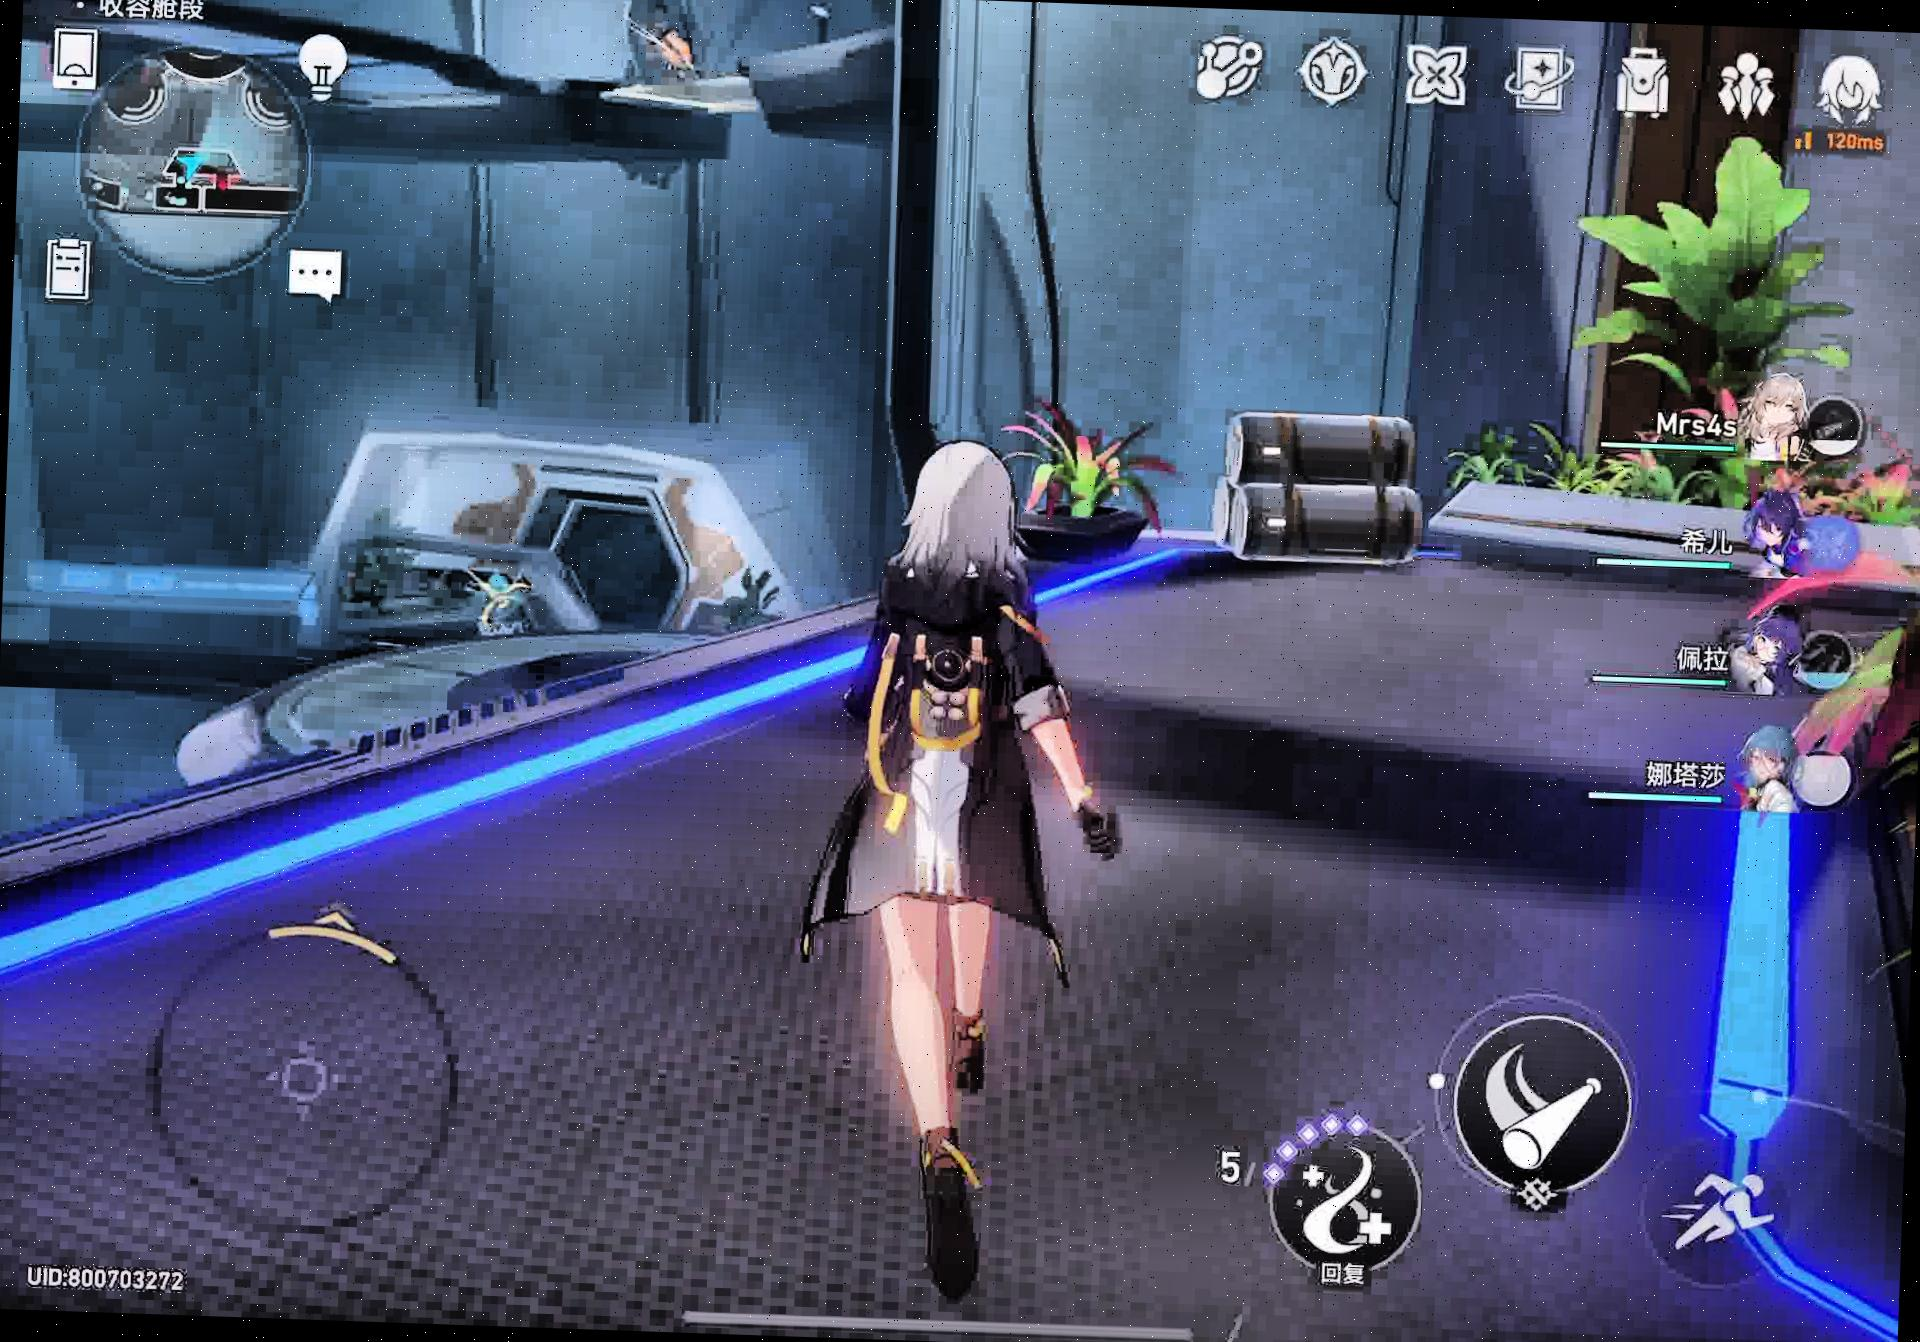Box: (1198, 407, 1437, 588)
Self: (821, 435, 1134, 1332)
